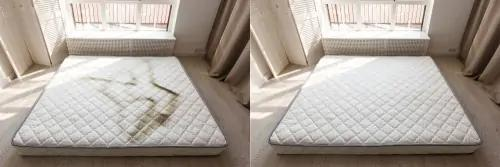Bed-Mattress: (267, 47, 486, 162), (12, 56, 227, 155)
